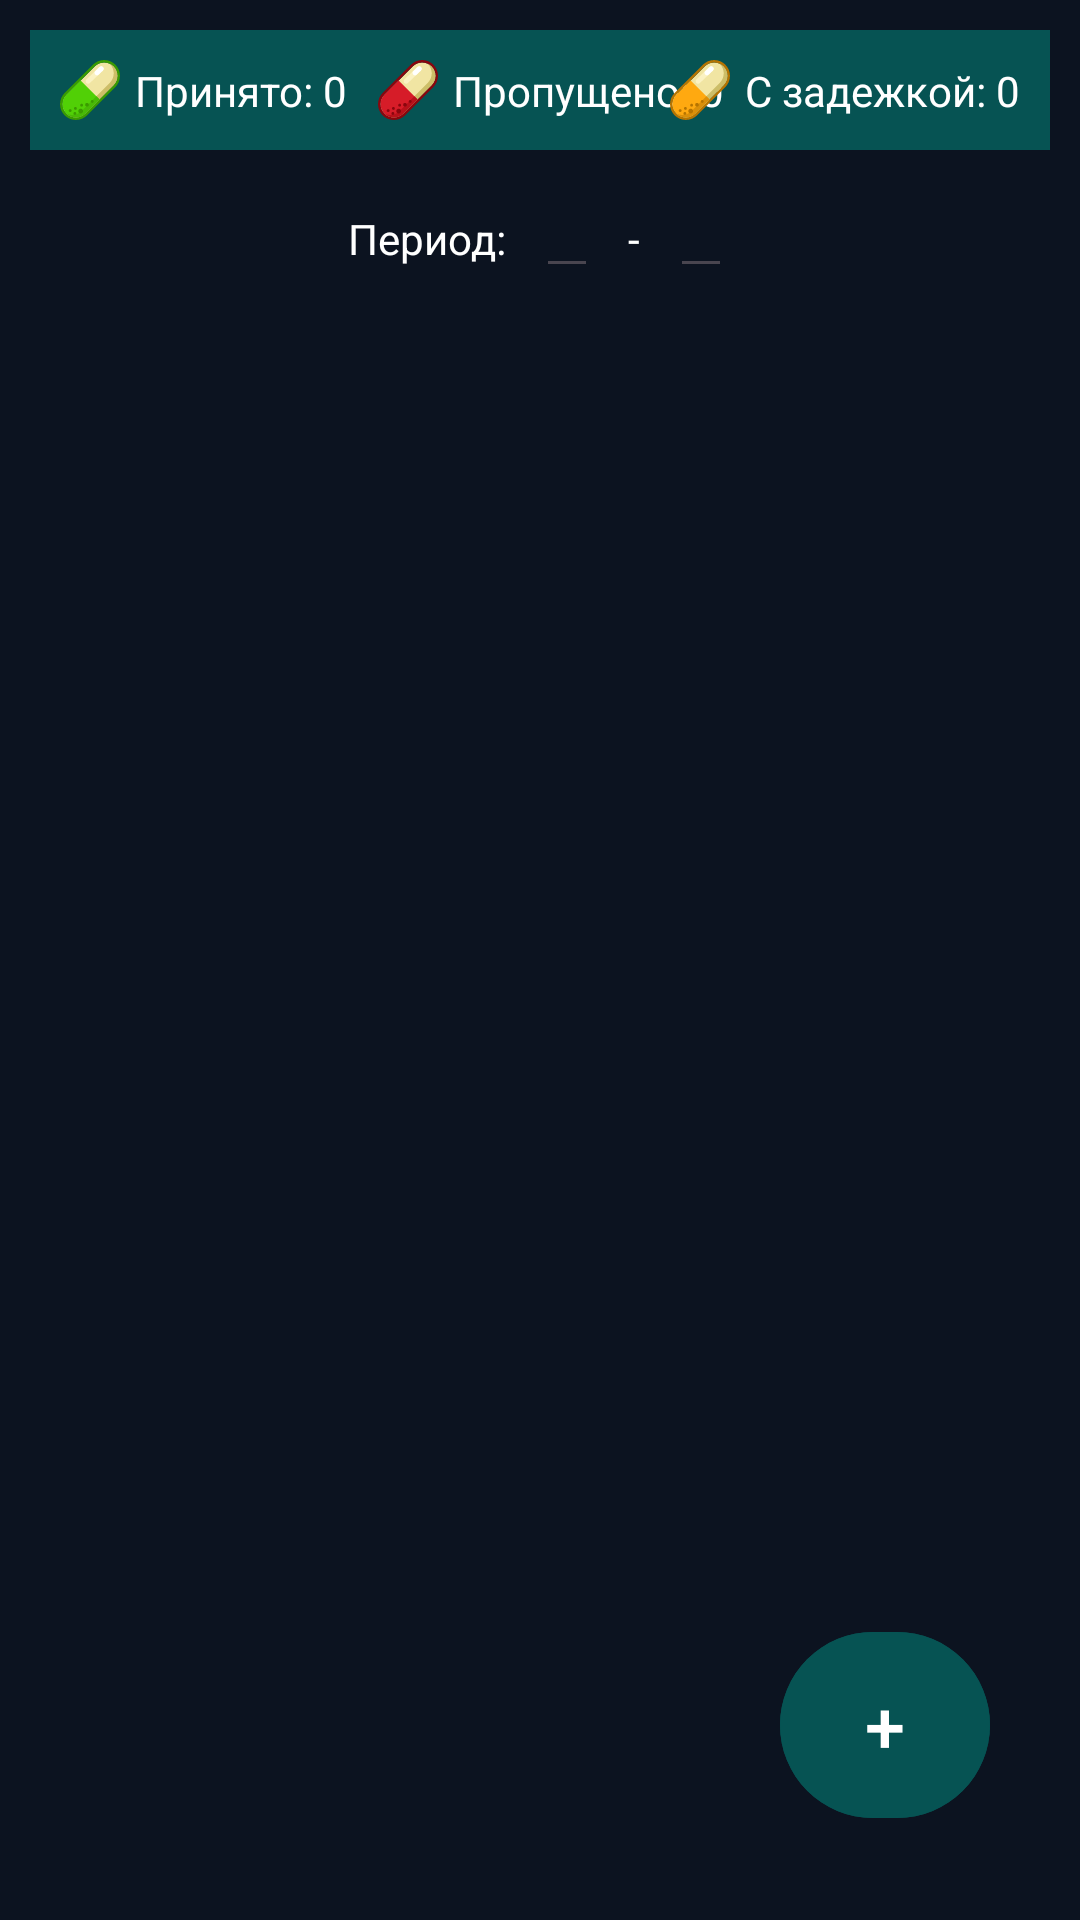

Named icons in this screenshot (1080x1920) and their centers, (x,y):
pill: (90,90), (408,90), (700,90)
